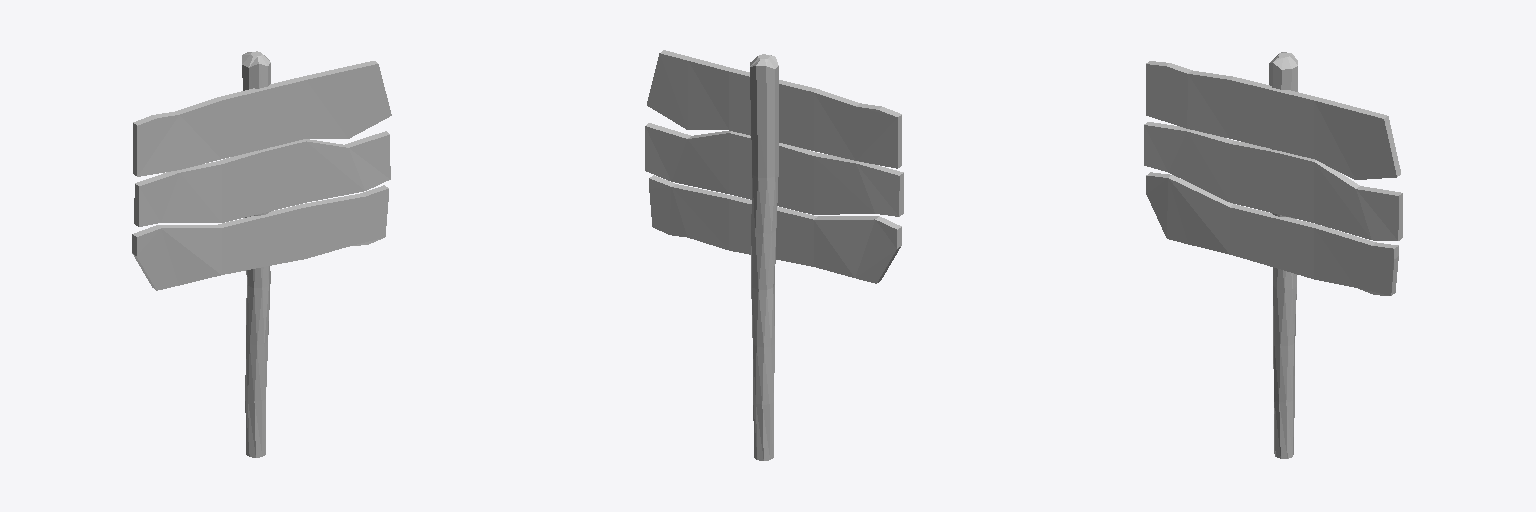
File: sign.obj
3 views of the same model, side by side, from view 1: azimuth 30°, elevation 25°; view 2: azimuth 150°, elevation 25°; view 3: azimuth 330°, elevation 25° (orthographic).
Visible parts, largest first — view 1: Sign_3_post_Baked; view 2: Sign_3_post_Baked; view 3: Sign_3_post_Baked.
Boxes of the visible parts, x1=… form: Sign_3_post_Baked: x1=132, y1=51, x2=391, y2=457; Sign_3_post_Baked: x1=645, y1=50, x2=903, y2=460; Sign_3_post_Baked: x1=1144, y1=52, x2=1402, y2=458.
Bounding box in the file's own units: 2 × 3.02 × 0.2602.